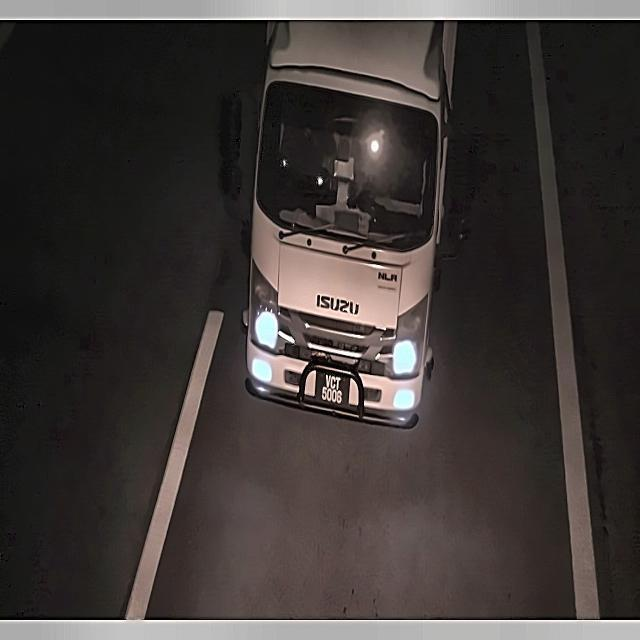car: (310, 359, 353, 412)
